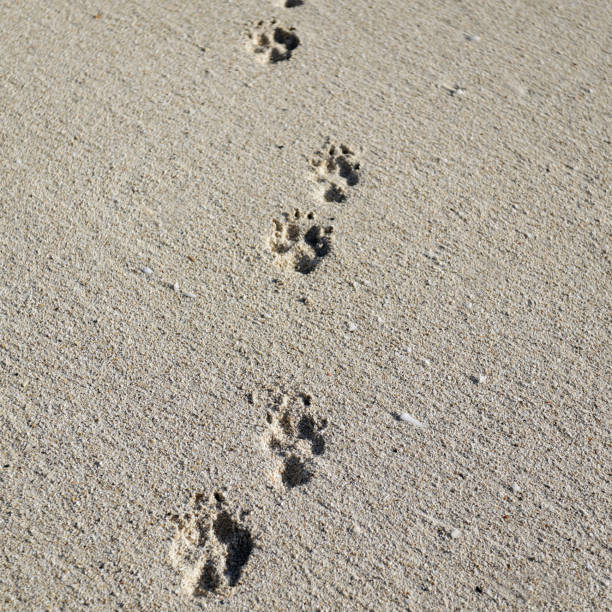animal_foot_print: (170, 490, 253, 597), (265, 395, 326, 488), (268, 209, 333, 273), (310, 143, 359, 201), (247, 19, 299, 60)
